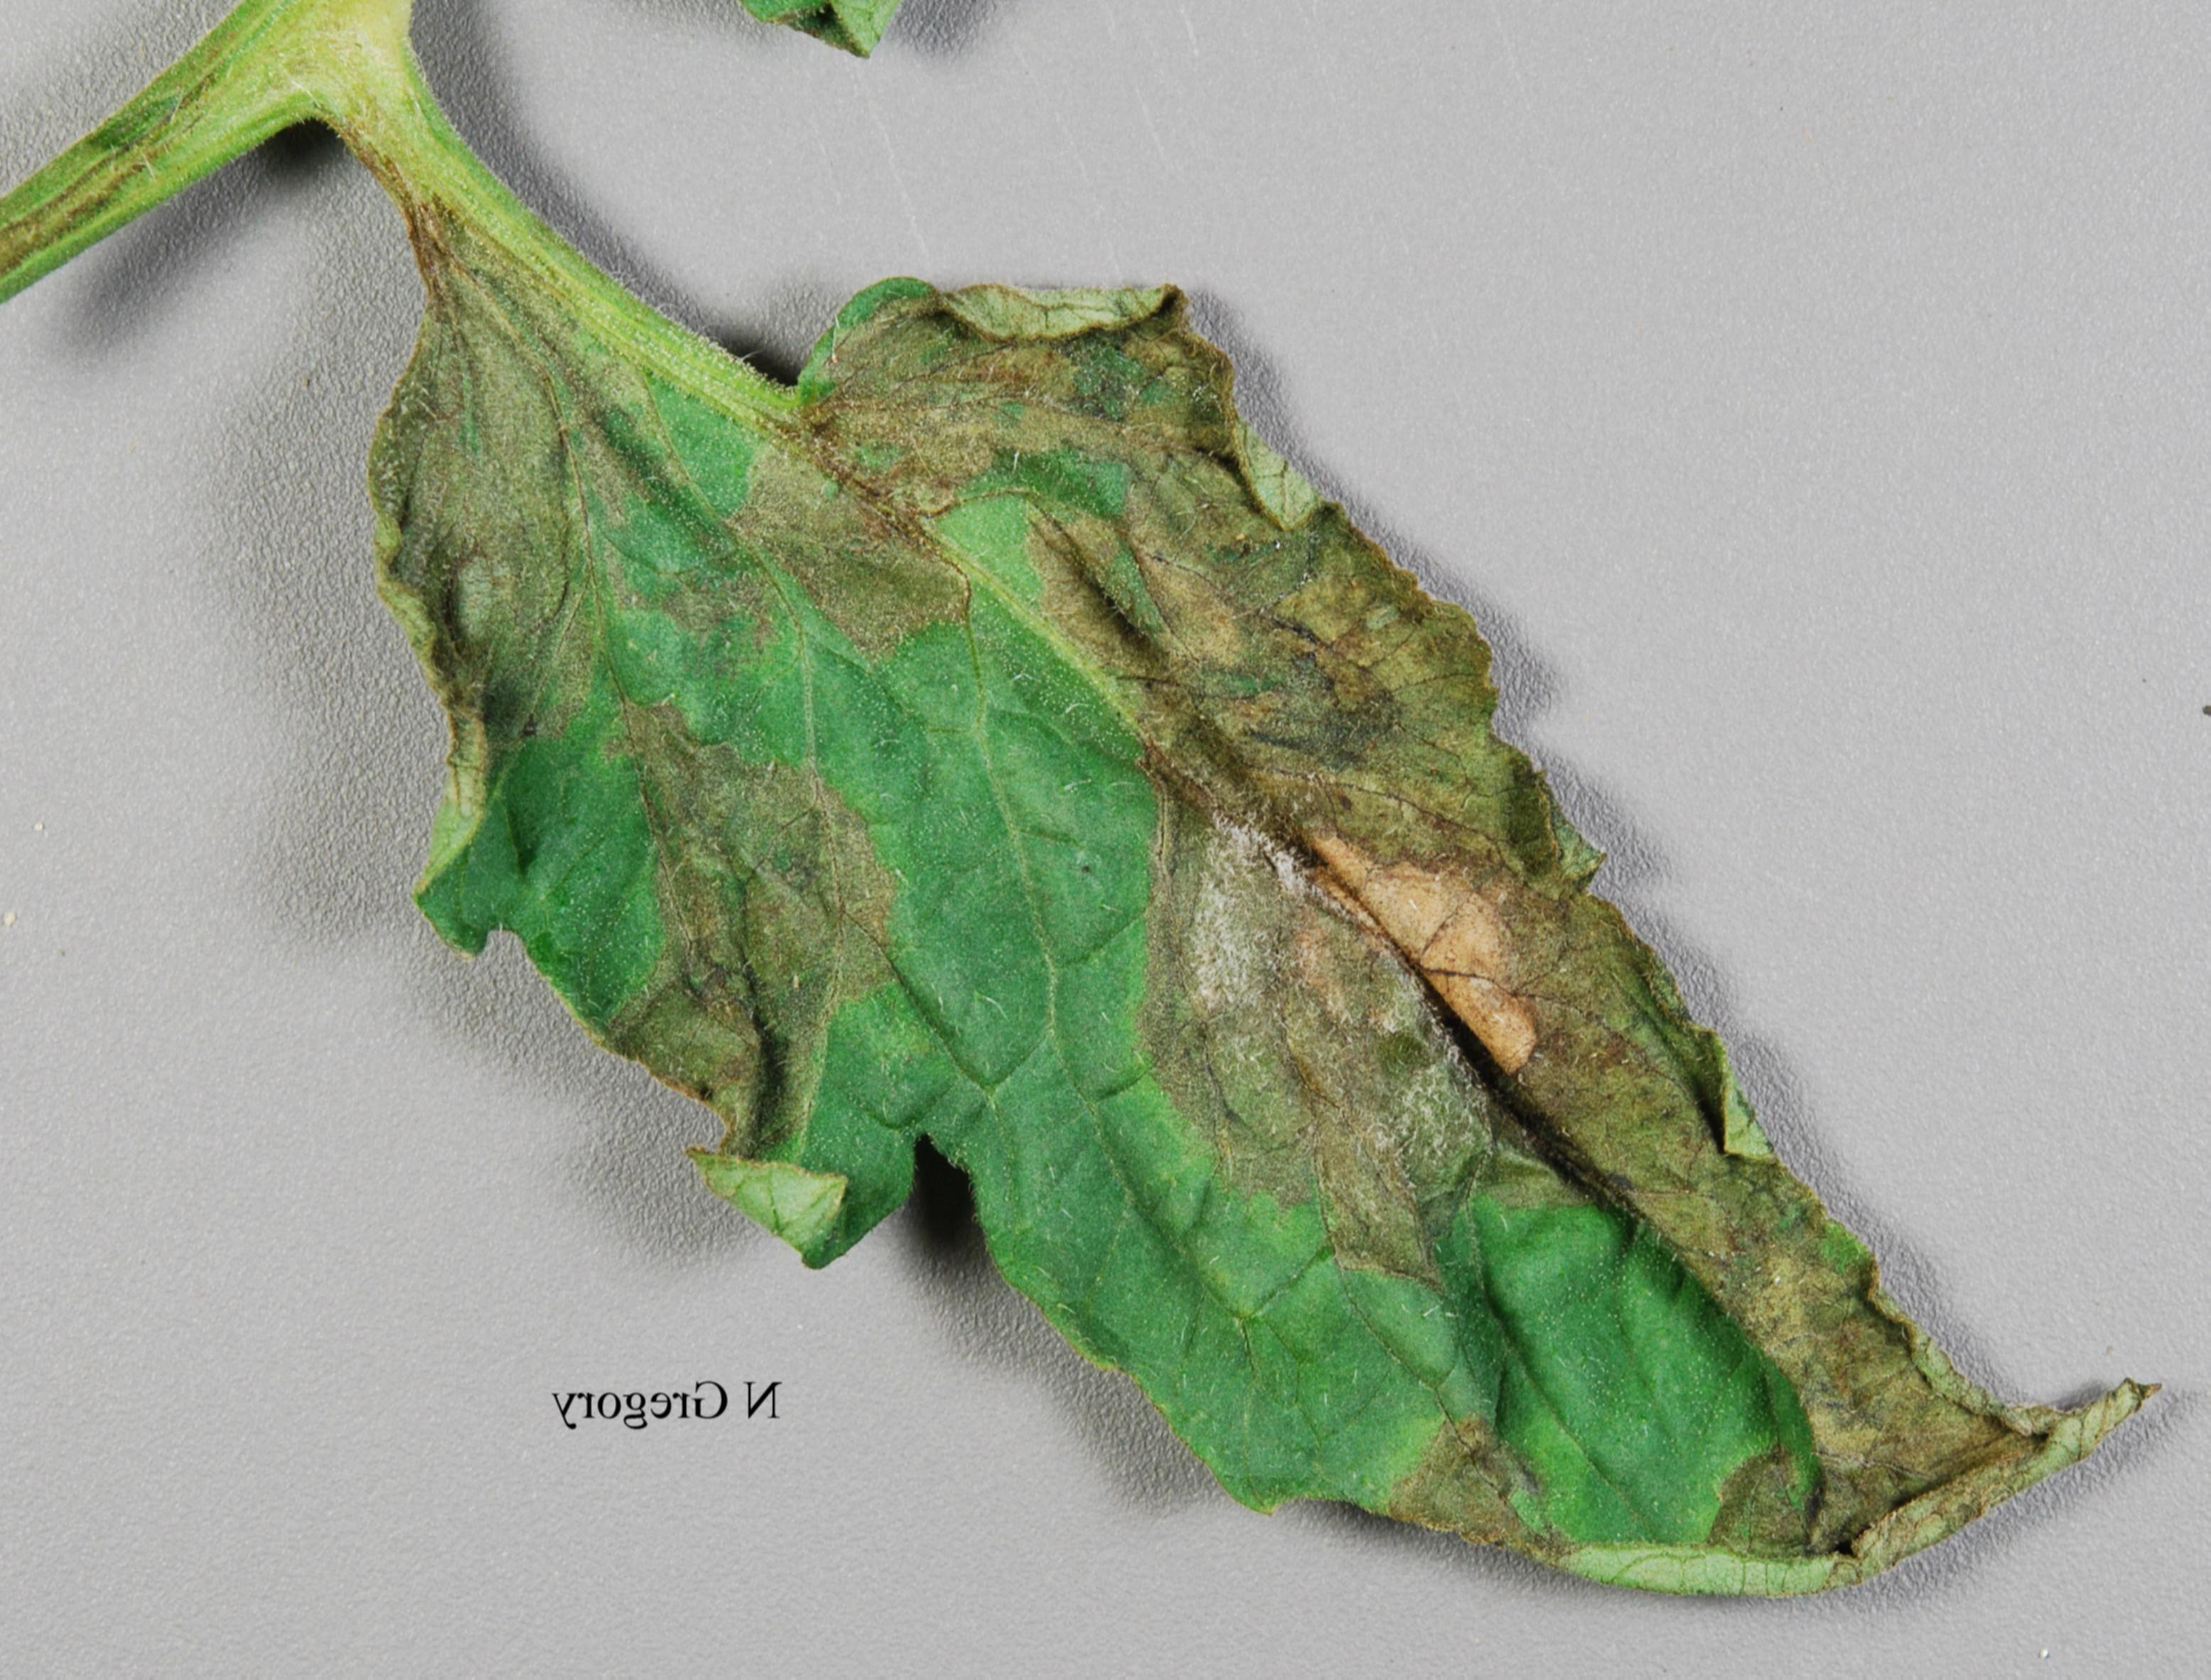Tomato leaf late blight: (401, 125, 2142, 1595)
